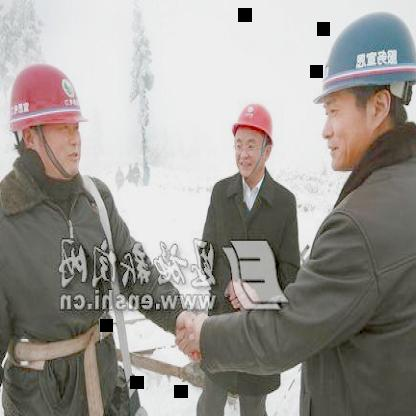helmet: (304, 0, 416, 174), (3, 51, 94, 188), (228, 94, 281, 180)
